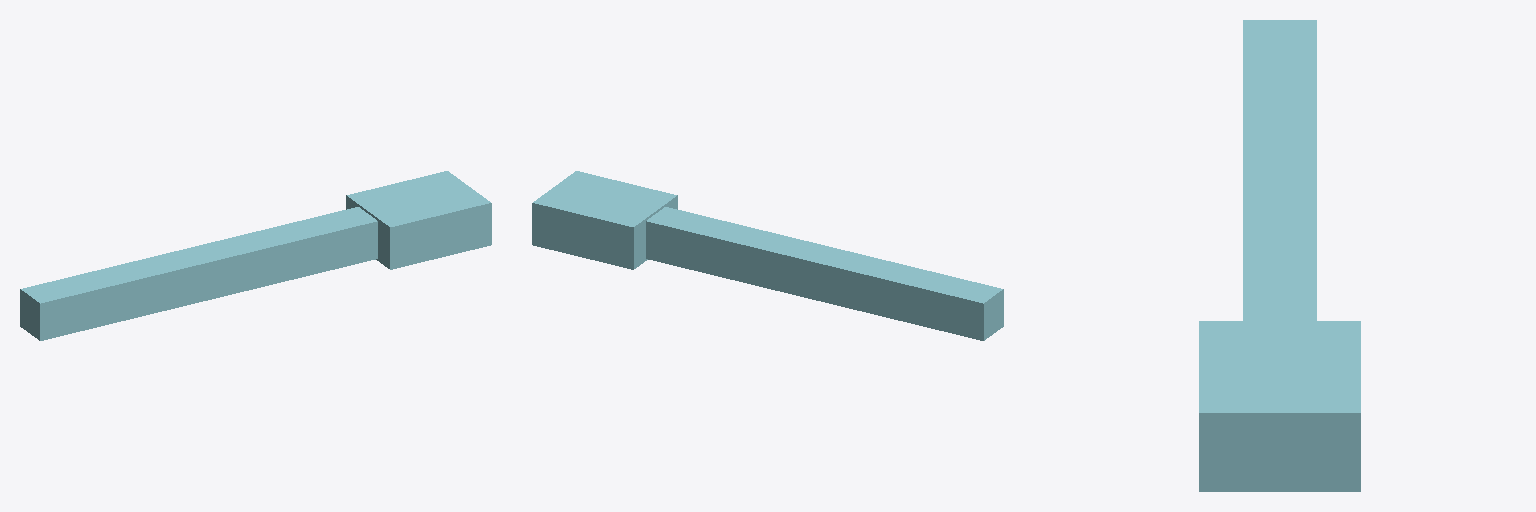
robot.urdf — cuboid_spatula_v5012:
<?xml version="1.0"?>
<robot name="cuboid_spatula_v5012">

  <link name="cuboid_spatula_v5012">
    <!-- Handle -->
    <visual>
      <origin xyz="0 0 0" rpy="0 0 0"/>
      <geometry>
        <box size="0.1705406365484013 0.017348021189545624 0.01817688405713703"/>
      </geometry>
      <material name="material">
        <color rgba="0.639 0.847 0.882 1.0"/>
      </material>
    </visual>
    <collision>
      <origin xyz="0 0 0" rpy="0 0 0"/>
      <geometry>
        <box size="0.1705406365484013 0.017348021189545624 0.01817688405713703"/>
      </geometry>
    </collision>

    <!-- Head -->
    <visual>
      <origin xyz="0.11080670052298446 0 0" rpy="0 0 0"/>
      <geometry>
        <box size="0.051072764497567626 0.03836230634408966 0.02050176605934522"/>
      </geometry>
      <material name="material">
        <color rgba="0.639 0.847 0.882 1.0"/>
      </material>
    </visual>
    <collision>
      <origin xyz="0.11080670052298446 0 0" rpy="0 0 0"/>
      <geometry>
        <box size="0.051072764497567626 0.03836230634408966 0.02050176605934522"/>
      </geometry>
    </collision>

    <inertial>
      <density value="400.0"/>
    </inertial>
  </link>

</robot>

--- What the picture shows (computed from the rendered views, not written in the file) ---
Views: 3 orthographic renders of the robot side by side, from view 1: azimuth 30°, elevation 25°; view 2: azimuth 150°, elevation 25°; view 3: azimuth 270°, elevation 25°.
Robot: cuboid_spatula_v5012 — 1 links, 0 joints (none); root link cuboid_spatula_v5012; default pose: every joint at zero.
Visible links, largest first — view 1: cuboid_spatula_v5012; view 2: cuboid_spatula_v5012; view 3: cuboid_spatula_v5012.
Link boxes in pixels (x1,y1,x2,y2): cuboid_spatula_v5012: [20, 171, 491, 340]; cuboid_spatula_v5012: [532, 171, 1003, 340]; cuboid_spatula_v5012: [1199, 20, 1360, 491].
Bounding box of the posed robot: 0.2216 × 0.0384 × 0.0205 m (x, y, z).
Geometry: primitives only (box / cylinder / sphere), no mesh files.
